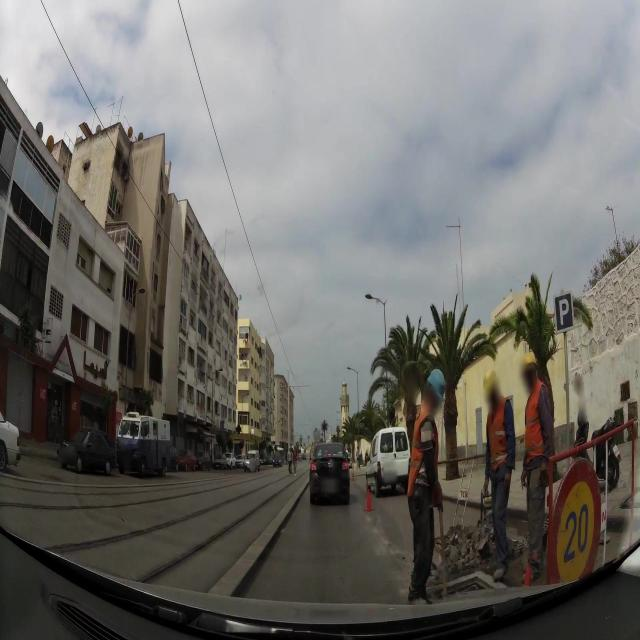car: (116, 412, 172, 476), (366, 425, 410, 496), (56, 426, 116, 476), (309, 441, 350, 506), (0, 390, 21, 473), (176, 448, 197, 471), (244, 451, 260, 472), (196, 450, 212, 469), (233, 454, 245, 468), (273, 452, 283, 468)
